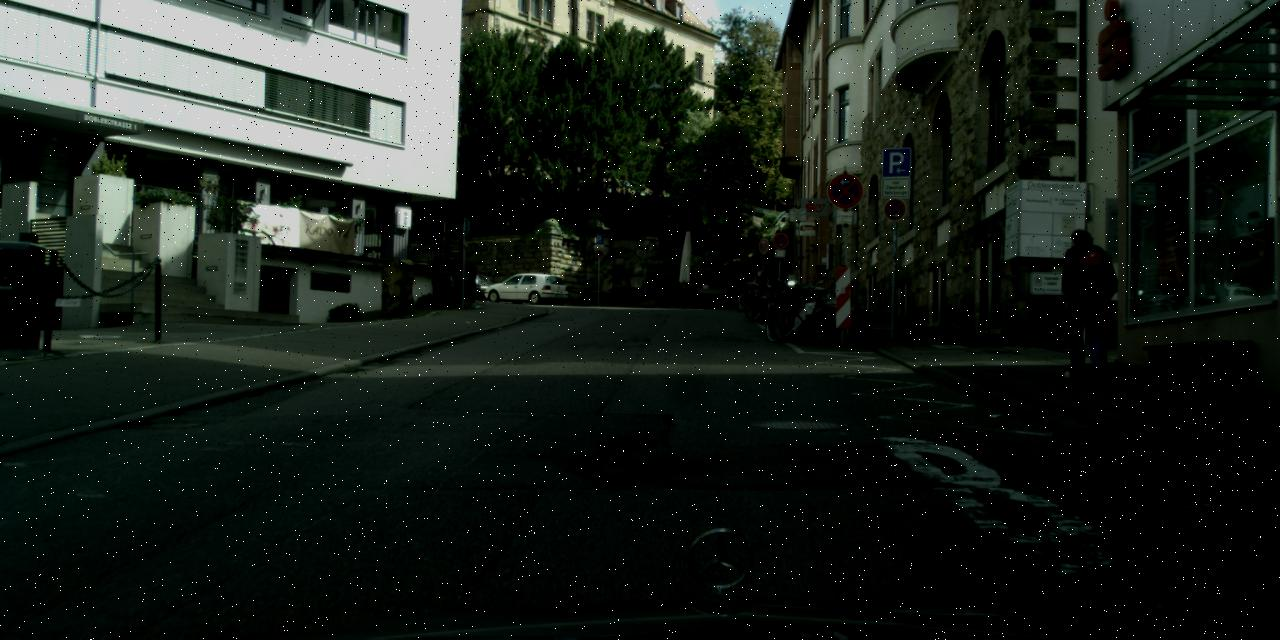ped: (1053, 228, 1115, 380), (750, 262, 770, 308)
